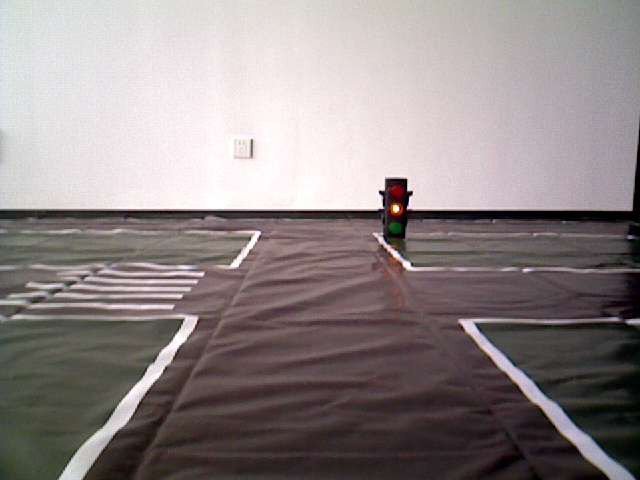yellow: (376, 173, 412, 244)
